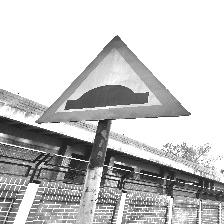Speed-breaker: (36, 36, 190, 122)
